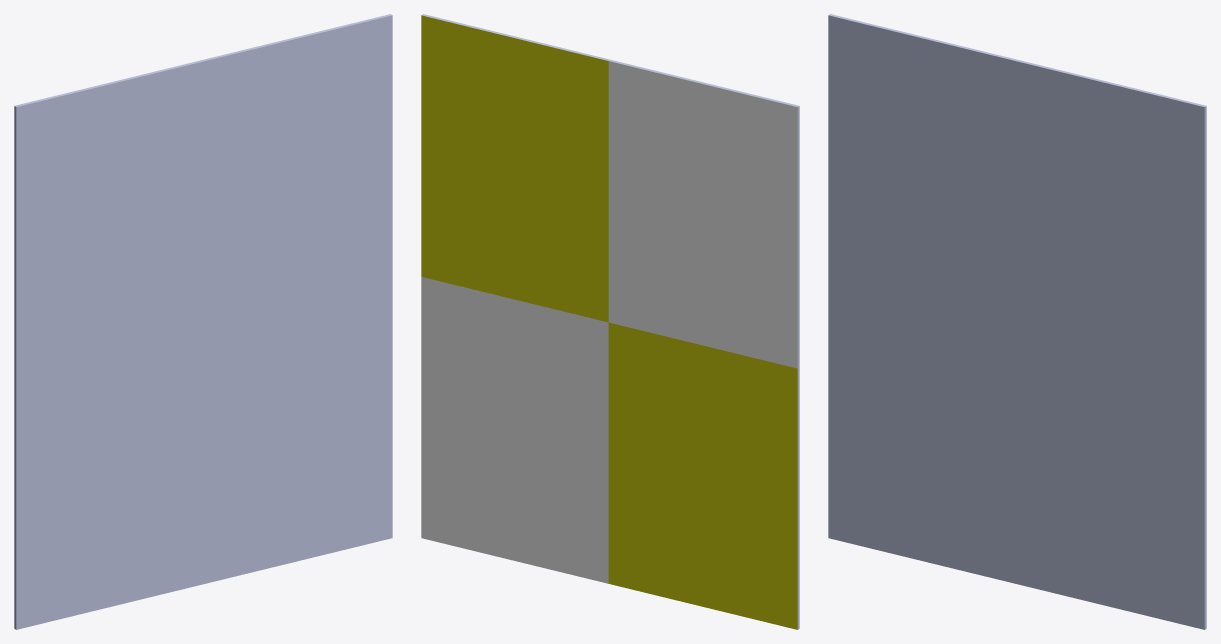
File: pokrywka_update (1).obj
3 renders of one model, left to right at view 1: azimuth 30°, elevation 25°; view 2: azimuth 150°, elevation 25°; view 3: azimuth 330°, elevation 25°, orthographic.
Parts seen in each view (by area): view 1: Bryła1; view 2: Bryła1; view 3: Bryła1.
Part boxes in pixels (x1,y1,x2,y2): Bryła1: (14,14,392,629); Bryła1: (421,14,799,629); Bryła1: (828,14,1206,629).
Size of the model in its own units: 459 by 610 by 4.01.
